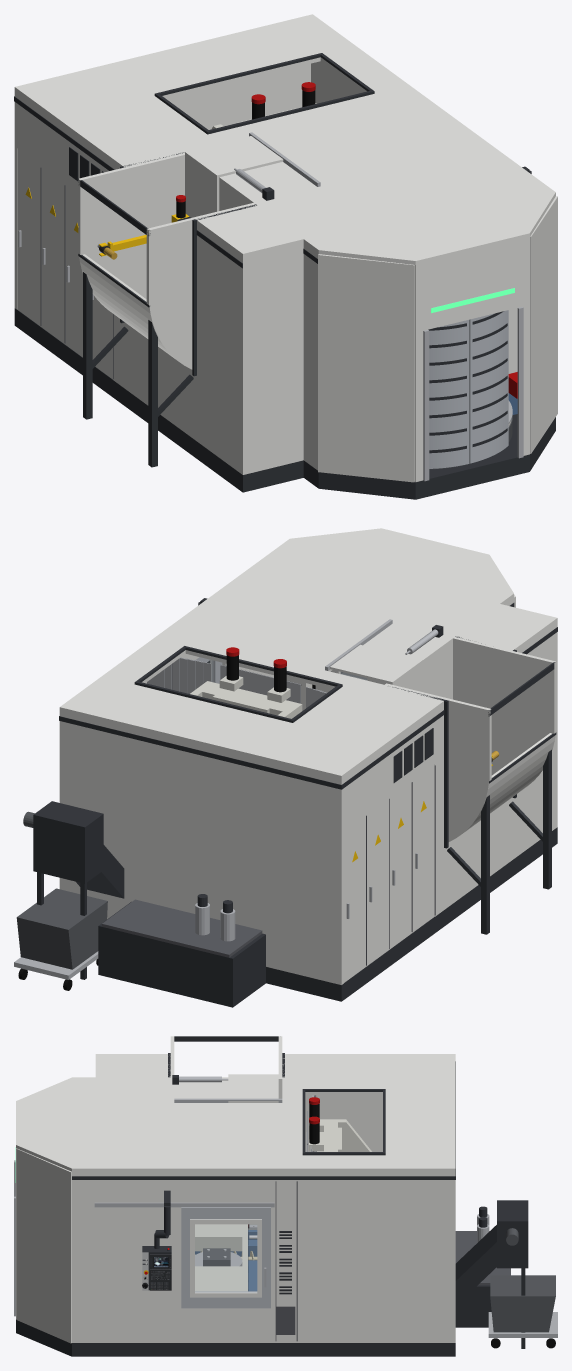
Rendered from hmc_x1200_4ax_white_right.glb.
3 views of the same model, one above another, from view 1: azimuth 30°, elevation 25°; view 2: azimuth 150°, elevation 25°; view 3: azimuth 270°, elevation 25° (orthographic). The views are drawn at different scales.
Visible parts, largest first — view 1: enclosure__hmc_white, apc_housing__hmc_white, tc_box__hmc_white, electrical_cabinet__hmc_white, enclosure__anthracite, apc_housing__anthracite, apc_door_left__door_grey, apc_door_right__door_grey, tc_box__anthracite, tc_door__hmc_white, apc_housing__steel, apc_door_left__anthracite (+3 smaller); view 2: enclosure__hmc_white, tc_box__hmc_white, chip_coolant__anthracite, electrical_cabinet__hmc_white, enclosure__anthracite, apc_housing__hmc_white, chip_cart__steel_dark, chip_coolant__anthracite_lt, tc_box__anthracite, tc_door__hmc_white, column__struct_grey, ycov_U_0__steel (+5 smaller); view 3: enclosure__hmc_white, apc_housing__hmc_white, enclosure__anthracite, chip_coolant__anthracite, operator_door__glass_clear, operator_door__door_grey, chip_cart__steel_dark, table__struct_grey, enclosure__steel, operator_door__hmc_white, column__struct_grey, tc_door__hmc_white (+10 smaller).
Boxes of the visible parts, x1=… form: enclosure__hmc_white: x1=14, y1=14, x2=540, y2=474; apc_housing__hmc_white: x1=303, y1=181, x2=557, y2=482; tc_box__hmc_white: x1=78, y1=152, x2=255, y2=369; electrical_cabinet__hmc_white: x1=17, y1=149, x2=113, y2=379; enclosure__anthracite: x1=14, y1=53, x2=374, y2=492; apc_housing__anthracite: x1=303, y1=248, x2=555, y2=499; apc_door_left__door_grey: x1=429, y1=320, x2=469, y2=468; apc_door_right__door_grey: x1=469, y1=310, x2=508, y2=463; tc_box__anthracite: x1=78, y1=178, x2=193, y2=467; tc_door__hmc_white: x1=185, y1=136, x2=283, y2=217; apc_housing__steel: x1=423, y1=307, x2=523, y2=481; apc_door_left__anthracite: x1=428, y1=323, x2=466, y2=453; enclosure__hmc_white: x1=59, y1=549, x2=557, y2=984; tc_box__hmc_white: x1=388, y1=637, x2=556, y2=841; chip_coolant__anthracite: x1=33, y1=801, x2=265, y2=1007; electrical_cabinet__hmc_white: x1=343, y1=764, x2=434, y2=982; enclosure__anthracite: x1=59, y1=625, x2=557, y2=1001; apc_housing__hmc_white: x1=276, y1=528, x2=515, y2=688; chip_cart__steel_dark: x1=16, y1=888, x2=107, y2=969; chip_coolant__anthracite_lt: x1=102, y1=899, x2=262, y2=957; tc_box__anthracite: x1=447, y1=662, x2=556, y2=934; tc_door__hmc_white: x1=330, y1=644, x2=422, y2=691; column__struct_grey: x1=190, y1=676, x2=302, y2=718; ycov_U_0__steel: x1=220, y1=665, x2=300, y2=703; enclosure__hmc_white: x1=95, y1=1054, x2=455, y2=1342; apc_housing__hmc_white: x1=16, y1=1077, x2=95, y2=1343; enclosure__anthracite: x1=95, y1=1053, x2=455, y2=1356; chip_coolant__anthracite: x1=455, y1=1200, x2=528, y2=1348; operator_door__glass_clear: x1=195, y1=1225, x2=256, y2=1291; operator_door__door_grey: x1=181, y1=1207, x2=270, y2=1308; chip_cart__steel_dark: x1=490, y1=1275, x2=555, y2=1332; table__struct_grey: x1=195, y1=1224, x2=247, y2=1291; enclosure__steel: x1=94, y1=1076, x2=282, y2=1207; operator_door__hmc_white: x1=190, y1=1219, x2=261, y2=1297; column__struct_grey: x1=309, y1=1119, x2=371, y2=1151; tc_door__hmc_white: x1=228, y1=1074, x2=278, y2=1102.
Bounding box in the file's own units: 5.08 × 3.22 × 7.86.
Materials: 21 (2 with a texture image).
